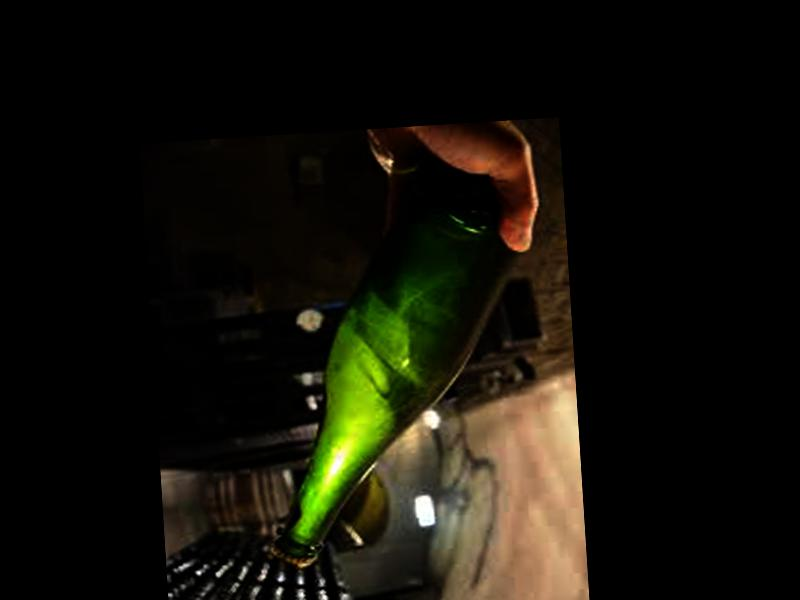Beer: (242, 158, 547, 570)
